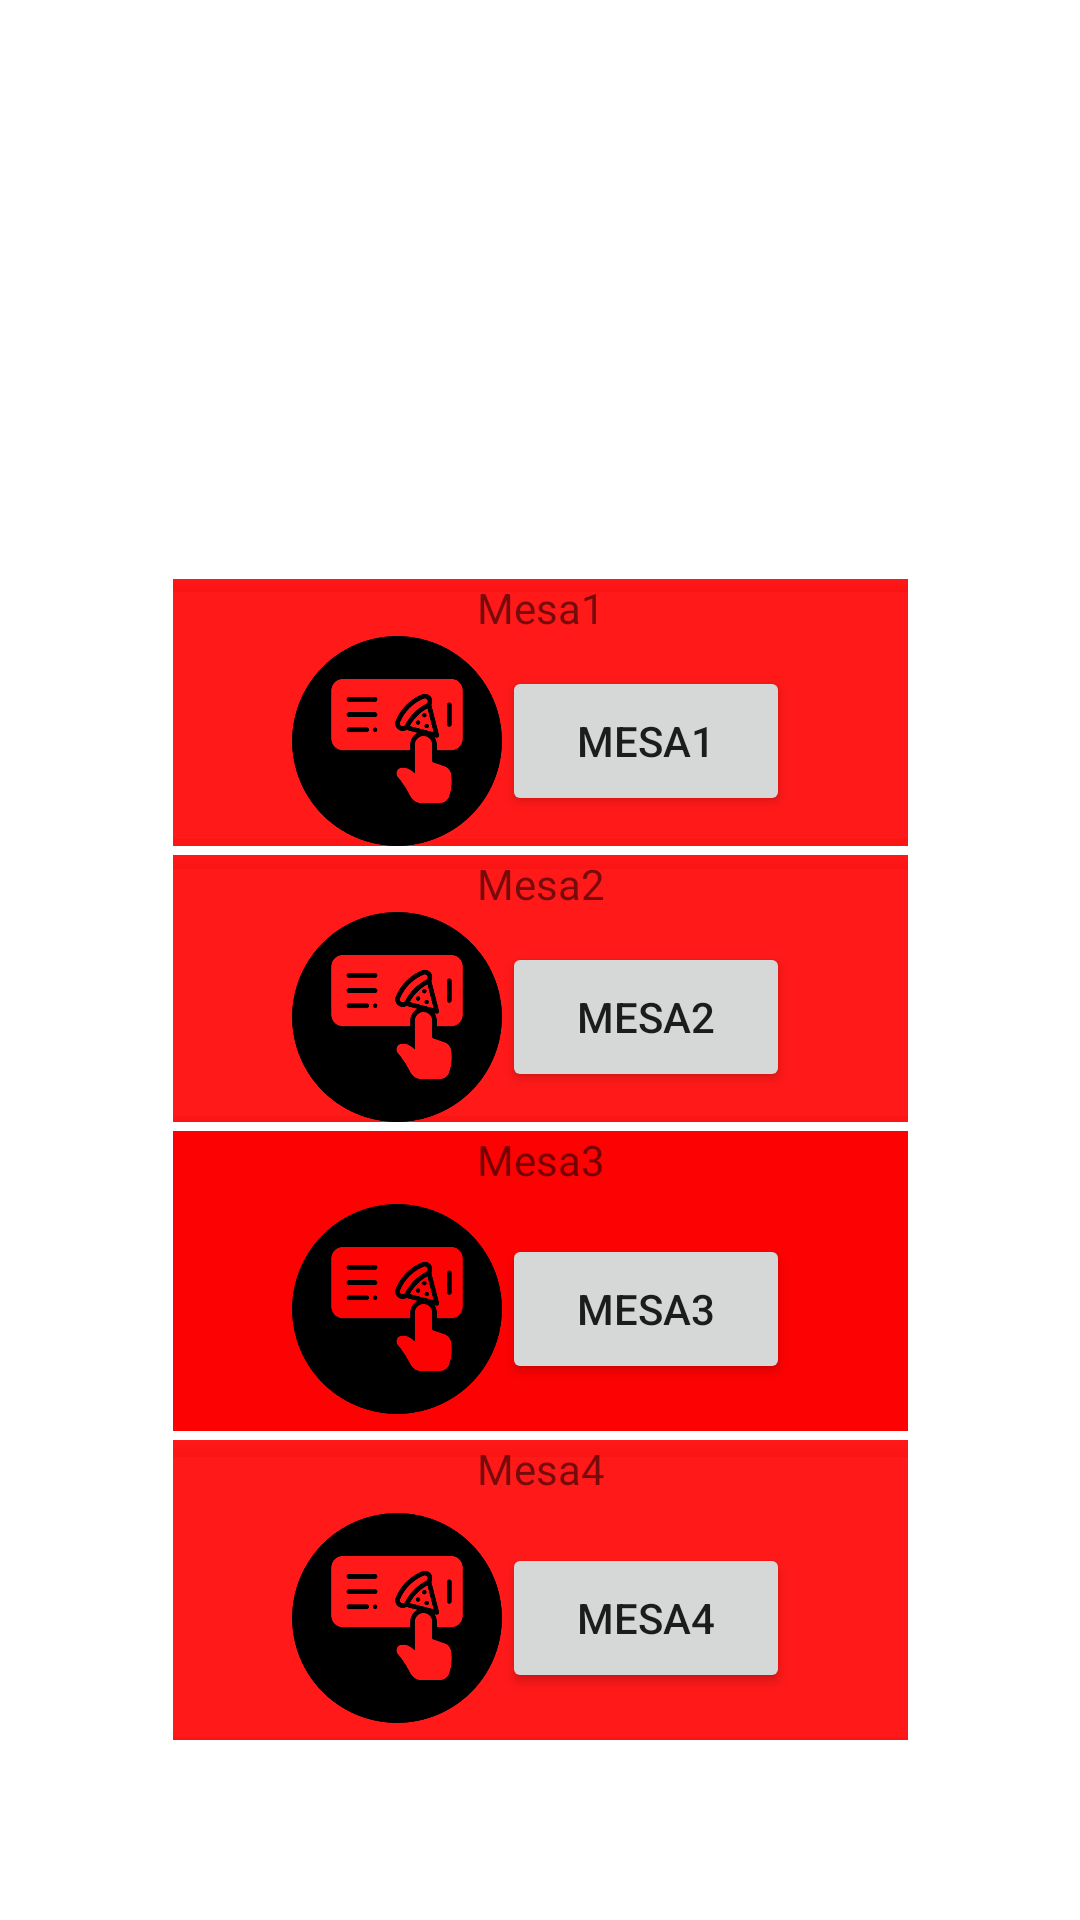

Where to tap for icons on this 1080×1920 app screen, as (x=x, y=y):
pedido: (x=397, y=741), (x=397, y=1017), (x=397, y=1309), (x=397, y=1618)
